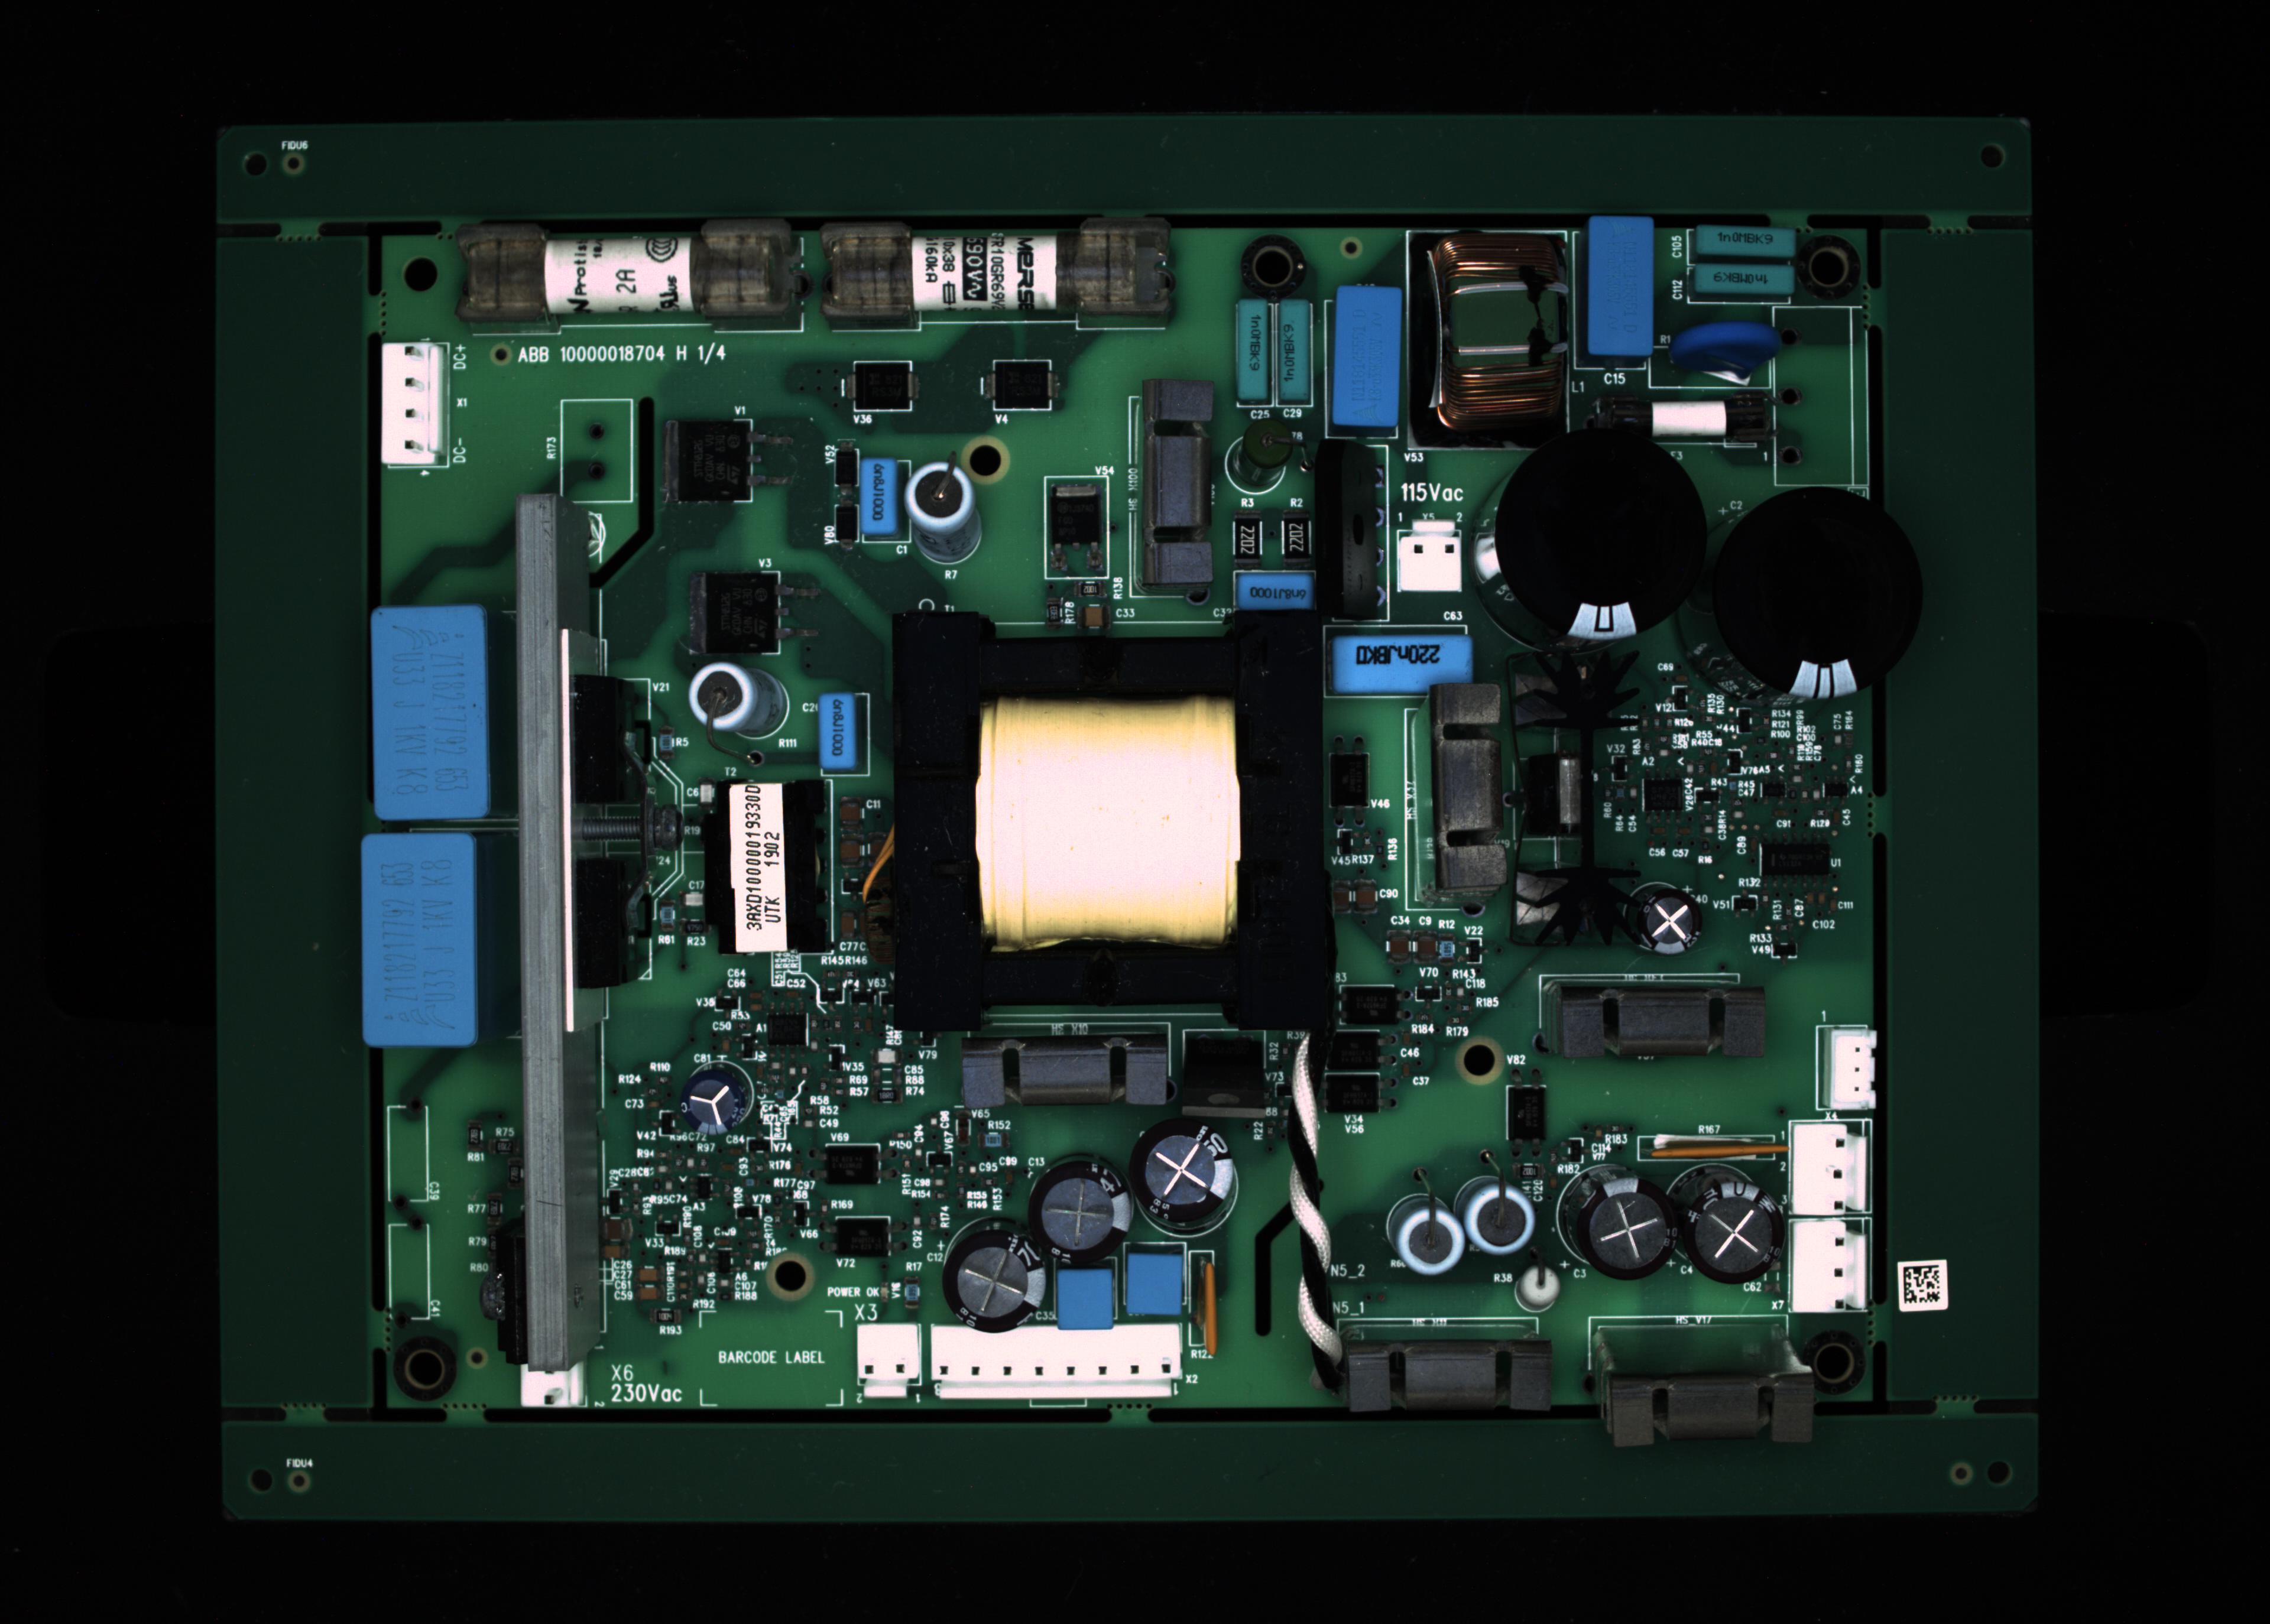10_p: (1648, 346, 1772, 394)
12_r: (1591, 387, 1776, 455)
13_s: (380, 337, 447, 473)
15_e: (855, 457, 899, 547)
16_k: (897, 464, 992, 569)
17_u: (1141, 373, 1219, 596)
18_v: (1234, 569, 1317, 608)
19_w: (1331, 634, 1468, 691)
1_a: (455, 216, 807, 336)
20_f: (1393, 517, 1470, 599)
21_g: (1495, 429, 1709, 643)
22_g: (1716, 482, 1929, 712)
23_h: (376, 603, 491, 821)
24_h: (364, 828, 475, 1048)
25_f: (520, 1364, 587, 1411)
26_f: (851, 1323, 927, 1403)
27_x: (925, 1323, 1185, 1415)
28_i: (1129, 1120, 1241, 1239)
29_i: (1027, 1153, 1134, 1274)
2_a: (819, 216, 1175, 330)
30_i: (941, 1230, 1055, 1341)
31_j: (1050, 1267, 1120, 1339)
32_j: (1115, 1237, 1197, 1329)
33_e: (818, 691, 860, 770)
34_k: (1387, 1193, 1465, 1281)
35_k: (1456, 1178, 1542, 1271)
36_i: (1582, 1181, 1672, 1290)
37_i: (1681, 1178, 1788, 1288)
38_l: (1331, 1336, 1560, 1424)
39_l: (1582, 1367, 1818, 1450)
3_b: (1234, 295, 1270, 410)
40_l: (1542, 977, 1771, 1058)
41_y: (1407, 678, 1505, 919)
42_z: (1818, 1028, 1878, 1114)
43_m: (1792, 1120, 1874, 1216)
44_m: (1788, 1225, 1876, 1311)
45_i: (679, 1074, 753, 1142)
46_n: (1338, 982, 1412, 1028)
47_n: (811, 1142, 899, 1192)
48_n: (818, 1214, 911, 1265)
49_aa: (761, 1011, 814, 1056)
4_b: (1280, 299, 1317, 410)
50_n: (1321, 1030, 1391, 1070)
51_n: (1308, 1070, 1396, 1120)
52_ab: (1329, 740, 1377, 831)
53_ac: (1656, 1130, 1790, 1165)
54_ad: (1194, 1253, 1222, 1364)
55_l: (955, 1037, 1175, 1118)
56_ae: (1176, 1032, 1282, 1132)
57_af: (1509, 647, 1635, 951)
58_i: (1630, 884, 1706, 958)
59_o: (981, 359, 1067, 417)
5_c: (1333, 286, 1400, 424)
60_o: (848, 357, 914, 408)
6_6: (1405, 232, 1572, 452)
7_c: (1586, 218, 1649, 359)
8_d: (1695, 227, 1799, 253)
9_d: (1700, 262, 1793, 295)
